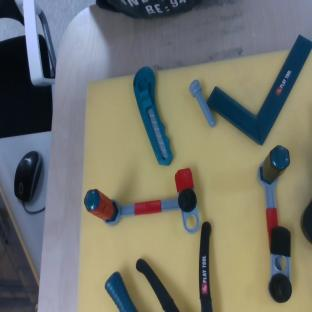non_pass: (257, 145, 292, 303)
pass: (81, 168, 202, 250)
